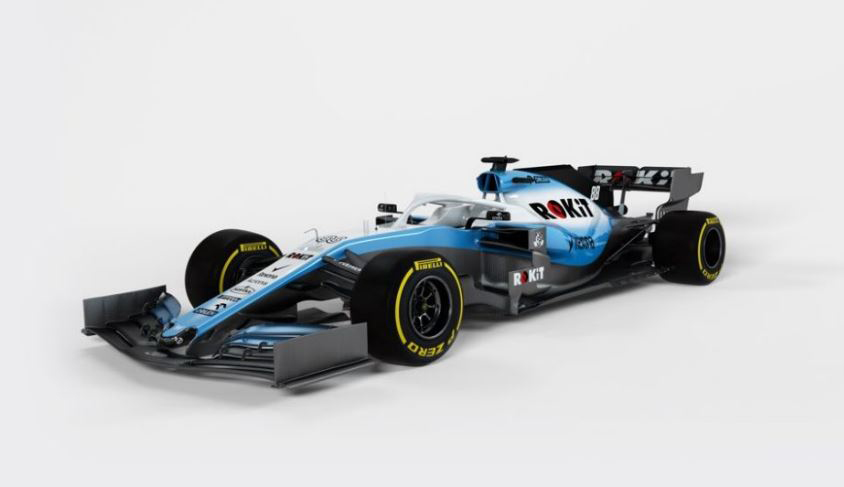F1 Car: (75, 146, 728, 395)
